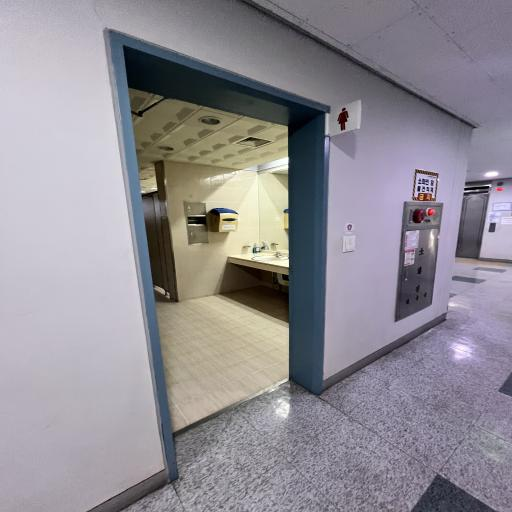door: (104, 29, 330, 483)
